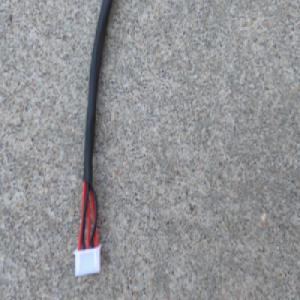Wire: (72, 0, 113, 280)
